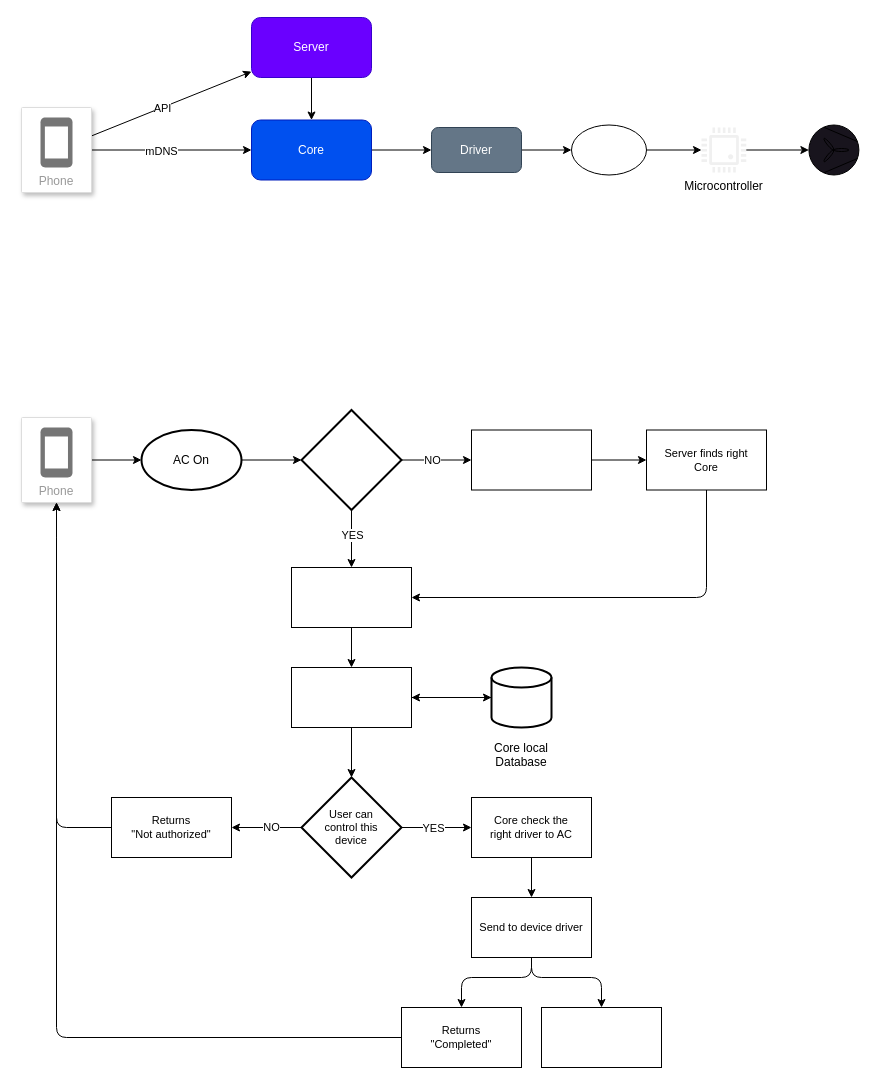
Image size: 877x1085. Some labels were removed from this diagram. Each missing label, with the centre of its shape:
AC Unit: (x=833, y=149)
Core checks user permission: (x=351, y=697)
Local Core Available?: (x=351, y=459)
Microcontroller receives command and turn the AC On: (x=601, y=1037)
Send "AC On" to Core: (x=351, y=597)
Send request to Server: (x=531, y=459)
Tasmota: (x=608, y=149)
